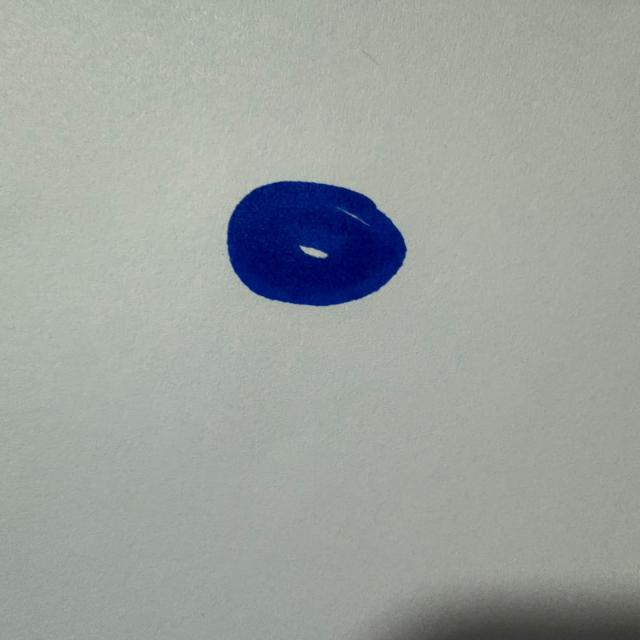Circle: (222, 178, 413, 310)
